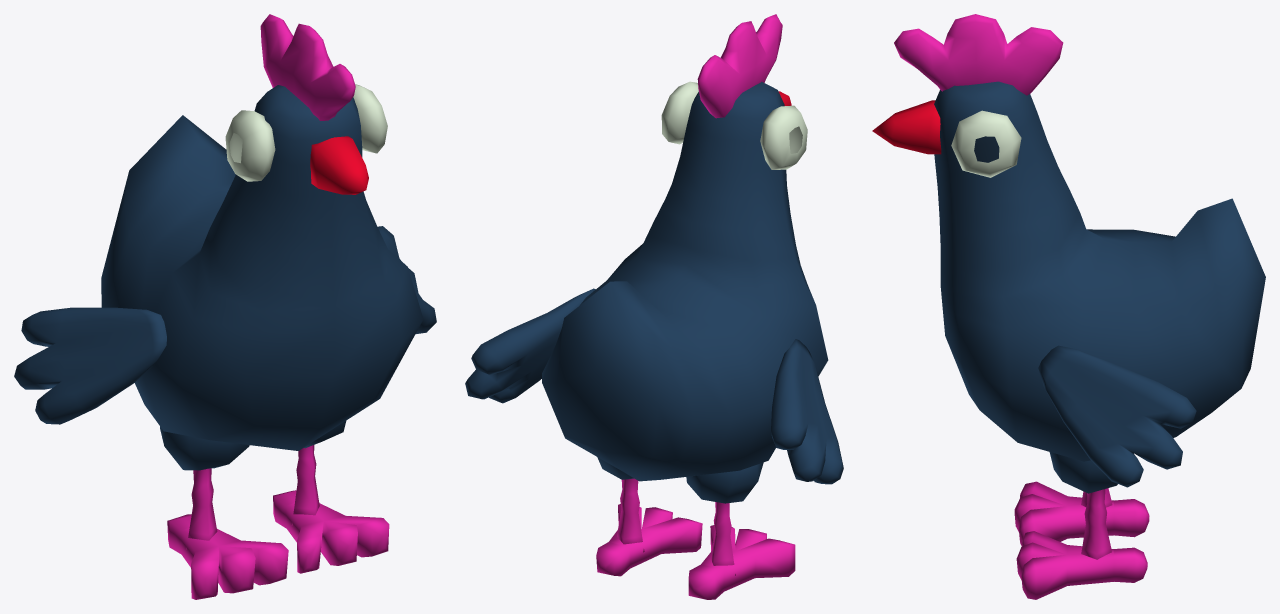
Rendered from hen.fbx.
3 renders of one model, left to right at view 1: azimuth 30°, elevation 25°; view 2: azimuth 150°, elevation 25°; view 3: azimuth 270°, elevation 25°, orthographic. The views are drawn at different scales.
Parts seen in each view (by area): view 1: hen; view 2: hen; view 3: hen.
Boxes of the visible parts, left/top/right/bottom form: hen: left=14, top=14, right=436, bottom=599; hen: left=465, top=14, right=843, bottom=599; hen: left=872, top=14, right=1265, bottom=599.
Size of the model in its own units: 43.22 by 60.14 by 39.73.
